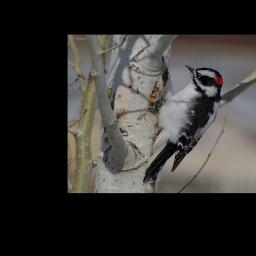Woodpecker: (141, 64, 222, 186)
